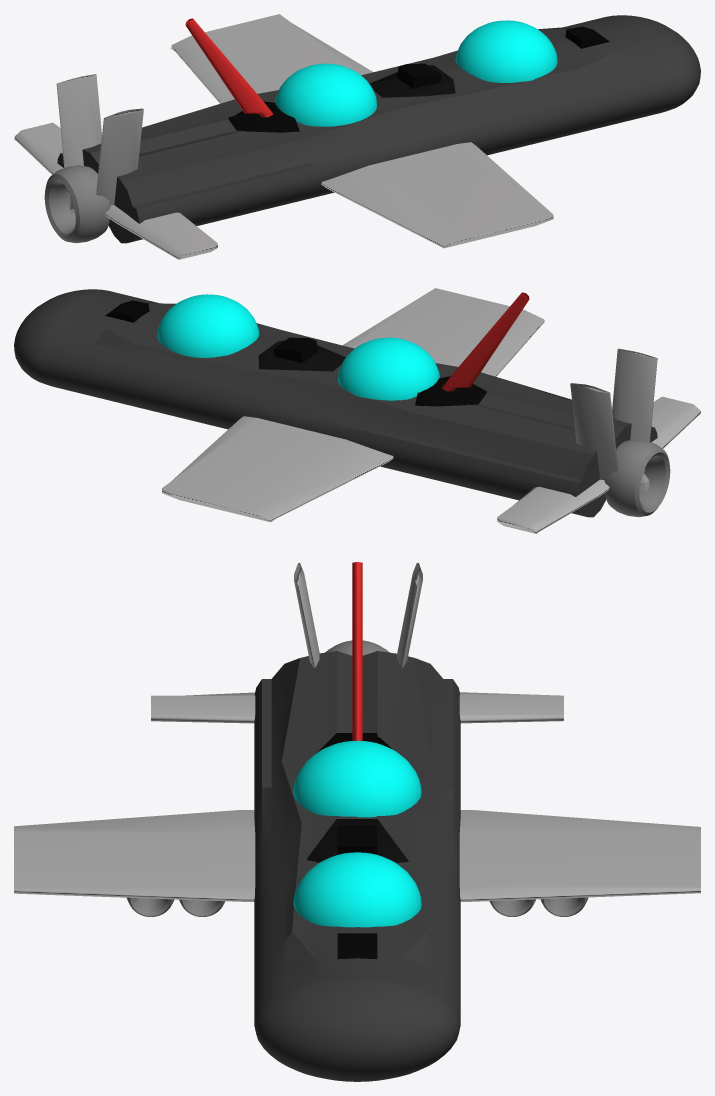
Rendered from Sous.fbx.
3 views of the same model, one above another, from view 1: azimuth 30°, elevation 25°; view 2: azimuth 150°, elevation 25°; view 3: azimuth 270°, elevation 25° (orthographic). The views are drawn at different scales.
Parts seen in each view (by area): view 1: tubePrincipale_1, aileron avant_3, Capsule.001_7, Capsule_8, aileron.001_4, Moteur.004_24, gouvernail 2_6, Devant_2, gouvernail_5, aileron_13, Body_12, Body.001_11 (+2 smaller); view 2: tubePrincipale_1, aileron avant_3, Capsule_8, Capsule.001_7, aileron.001_4, Moteur.004_24, gouvernail_5, Devant_2, gouvernail 2_6, aileron_13, Body_12, Body.001_11 (+2 smaller); view 3: tubePrincipale_1, aileron avant_3, Devant_2, Capsule.001_7, Capsule_8, aileron.001_4, aileron_13, Body_12, BlocRadio_9, gouvernail_5, gouvernail 2_6, BlocRadio.001_10.
Part boxes in pixels (bbox=[...]): tubePrincipale_1: bbox=[57, 17, 673, 243]; aileron avant_3: bbox=[170, 14, 553, 248]; Capsule.001_7: bbox=[275, 63, 376, 126]; Capsule_8: bbox=[455, 20, 557, 82]; aileron.001_4: bbox=[14, 122, 217, 259]; Moteur.004_24: bbox=[44, 165, 110, 243]; gouvernail 2_6: bbox=[56, 74, 101, 167]; Devant_2: bbox=[605, 15, 700, 111]; gouvernail_5: bbox=[96, 108, 143, 205]; aileron_13: bbox=[185, 18, 272, 117]; Body_12: bbox=[369, 65, 455, 97]; Body.001_11: bbox=[228, 101, 299, 132]; tubePrincipale_1: bbox=[41, 291, 657, 517]; aileron avant_3: bbox=[161, 288, 544, 522]; Capsule_8: bbox=[157, 294, 259, 357]; Capsule.001_7: bbox=[338, 337, 439, 400]; aileron.001_4: bbox=[497, 396, 700, 533]; Moteur.004_24: bbox=[604, 439, 670, 517]; gouvernail_5: bbox=[612, 348, 657, 441]; Devant_2: bbox=[14, 289, 109, 385]; gouvernail 2_6: bbox=[570, 383, 618, 480]; aileron_13: bbox=[442, 292, 529, 391]; Body_12: bbox=[258, 340, 345, 371]; Body.001_11: bbox=[415, 376, 486, 406]; tubePrincipale_1: bbox=[254, 651, 460, 1022]; aileron avant_3: bbox=[14, 810, 700, 901]; Devant_2: bbox=[254, 976, 460, 1081]; Capsule.001_7: bbox=[293, 740, 421, 817]; Capsule_8: bbox=[293, 852, 421, 927]; aileron.001_4: bbox=[151, 692, 563, 723]; aileron_13: bbox=[352, 562, 362, 740]; Body_12: bbox=[307, 819, 408, 863]; BlocRadio_9: bbox=[337, 825, 377, 854]; gouvernail_5: bbox=[294, 563, 319, 667]; gouvernail 2_6: bbox=[397, 563, 422, 667]; BlocRadio.001_10: bbox=[337, 933, 377, 958].
Size of the model in its own units: 1759 by 518 by 1330.
